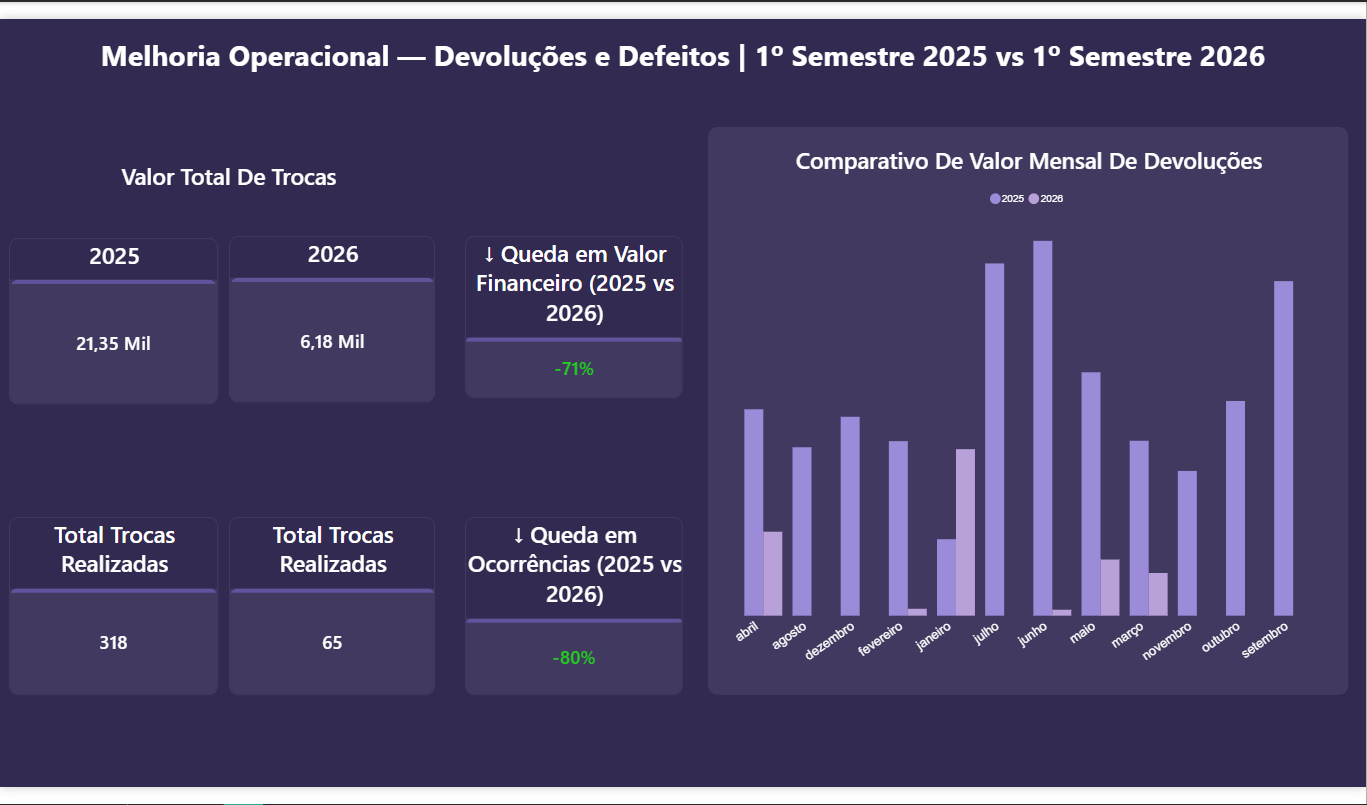

The page's visual inventory and layout, read from the dashboard file:
{"tool":"powerbi","page":{"name":"Vale Troca","canvas":[1280,720],"ordinal":0},"visuals":[{"type":"cardVisual","title":"2025","fields":{"Data":["Medidia.Total Valor 2025 1S"]},"box":[8.4,205.2,195.8,156.5],"z":0},{"type":"cardVisual","title":"Total Trocas Realizadas","fields":{"Data":["Medidia.Qtd Trocas 2025 1S"]},"box":[8.4,466.6,195.8,166.8],"z":1},{"type":"cardVisual","title":"2026","fields":{"Data":["Medidia.Total Valor 2026 1S"]},"box":[214.6,203.3,193,156.5],"z":2},{"type":"cardVisual","title":"Total Trocas Realizadas","fields":{"Data":["Medidia.Qtd Trocas 2026 1S"]},"box":[214.6,466.6,193,166.8],"z":3},{"type":"cardVisual","title":"↓ Queda em Ocorrências (2025 vs 2026)","fields":{"Data":["Medidia.Variacao % Qtd Trocas 1S"]},"box":[435.7,466.6,204.3,166.8],"z":4},{"type":"cardVisual","title":"↓ Queda em Valor Financeiro (2025 vs 2026)","fields":{"Data":["Medidia.Variacao % Valor 1S"]},"box":[435.7,203.3,204.3,151.8],"z":5},{"type":"textbox","box":[0,0,1280,76.9],"z":6},{"type":"textbox","box":[0,117.1,429.2,67.5],"z":9},{"type":"clusteredColumnChart","title":"Comparativo De Valor Mensal De Devoluções","fields":{"Y":["Medidia.Total Valor Mes"],"Series":["Calendario.Ano"],"Category":["Calendario.NomeMes"]},"box":[663.4,101.2,599.7,532.2],"z":10}]}

Visuals, with their boxes on the page's 1280x720 design canvas (x1, y1, x2, y2). These are canvas units, not pixel positions in the 1367x805 screenshot, which may show the page scaled, cropped or inside an application window:
"2025" cardVisual: <bbox>8, 205, 204, 362</bbox>
"Total Trocas Realizadas" cardVisual: <bbox>8, 467, 204, 633</bbox>
"2026" cardVisual: <bbox>215, 203, 408, 360</bbox>
"Total Trocas Realizadas" cardVisual: <bbox>215, 467, 408, 633</bbox>
"↓ Queda em Ocorrências (2025 vs 2026)" cardVisual: <bbox>436, 467, 640, 633</bbox>
"↓ Queda em Valor Financeiro (2025 vs 2026)" cardVisual: <bbox>436, 203, 640, 355</bbox>
textbox: <bbox>0, 0, 1280, 77</bbox>
textbox: <bbox>0, 117, 429, 185</bbox>
"Comparativo De Valor Mensal De Devoluções" clusteredColumnChart: <bbox>663, 101, 1263, 633</bbox>
